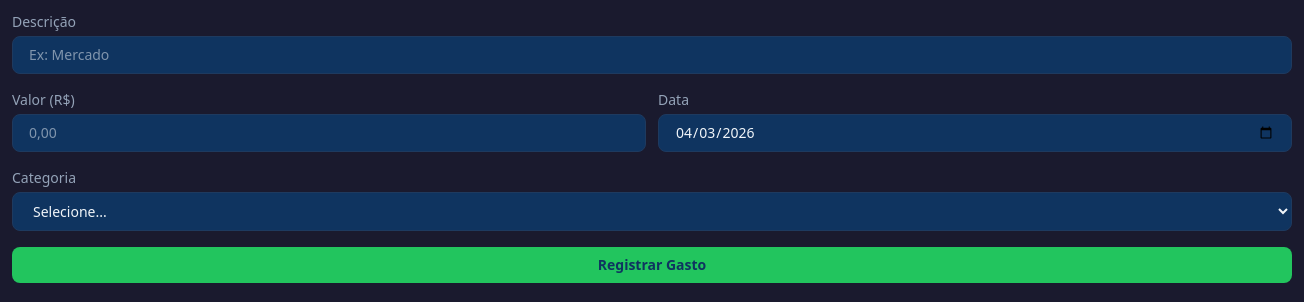
Test: FormularioGasto — submit › limpa descrição e valor após submit
The width and height of the screenshot is (1304, 302).
Step 1. Type "Mercado" into the field labelled "Descrição" → (652, 55), box [12,36,1292,74]
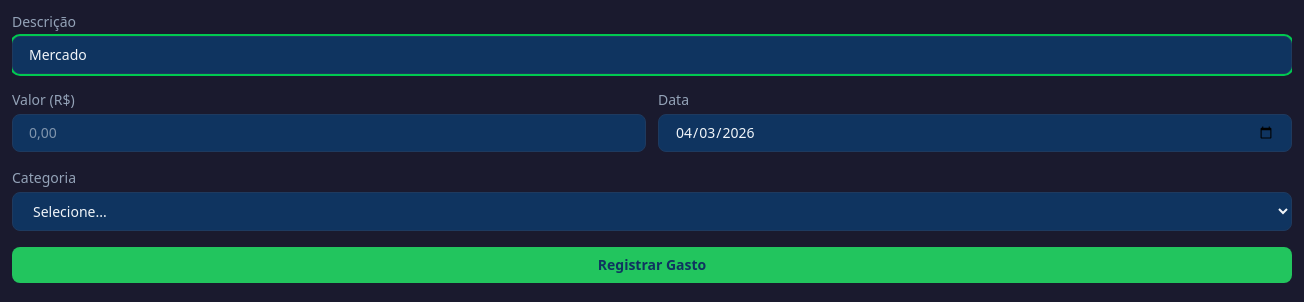
Step 2. Type "50" into the number field labelled "Valor (R$)" → (329, 133), box [12,114,646,152]
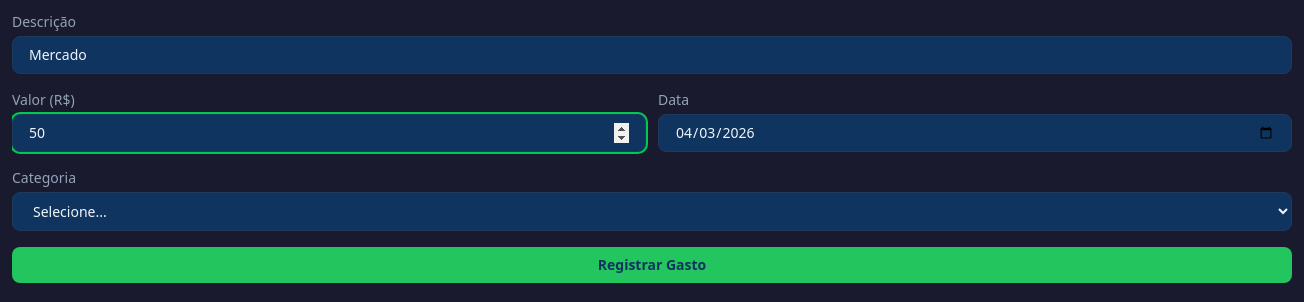
Step 3. Select "Alimentação" in the dropdown labelled "Categoria" → (652, 212), box [12,192,1292,231]
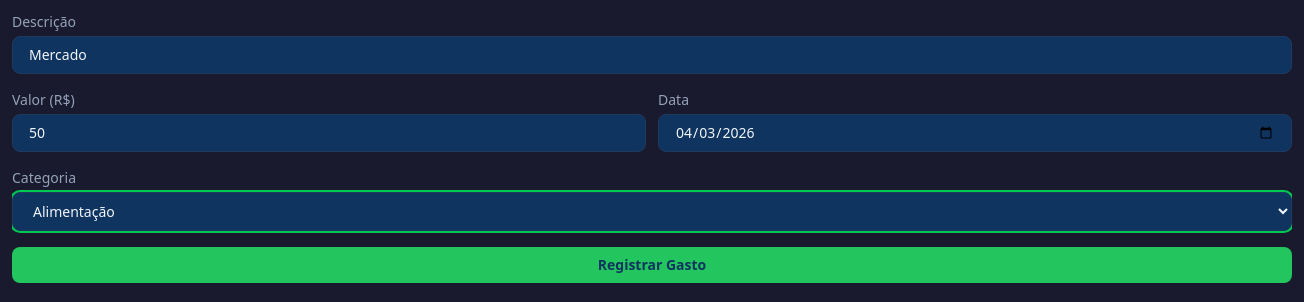
Step 4. Click the button "Registrar Gasto" → (652, 265), box [12,247,1292,283]
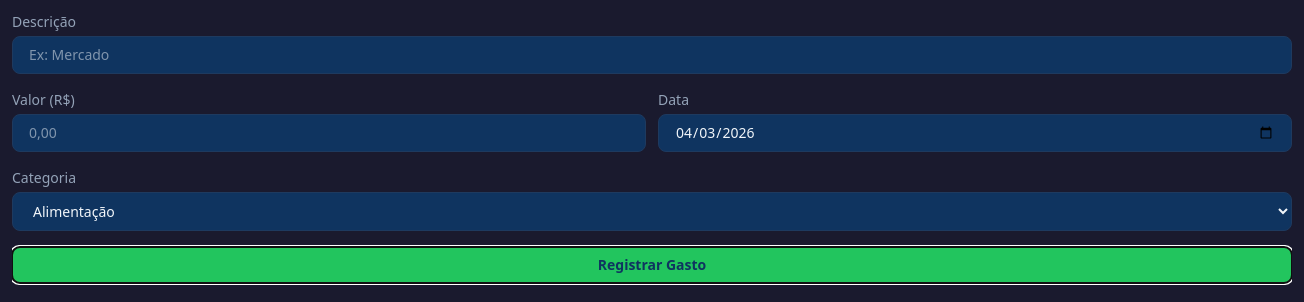
Expected: the field labelled "Descrição" is empty, [12,36,1292,74]
Expected: the number field labelled "Valor (R$)" is not empty, [12,114,646,152]
